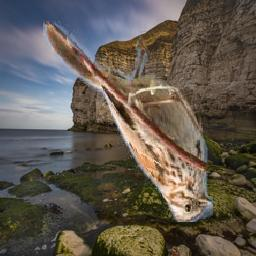Sparrow: (43, 22, 213, 223)
